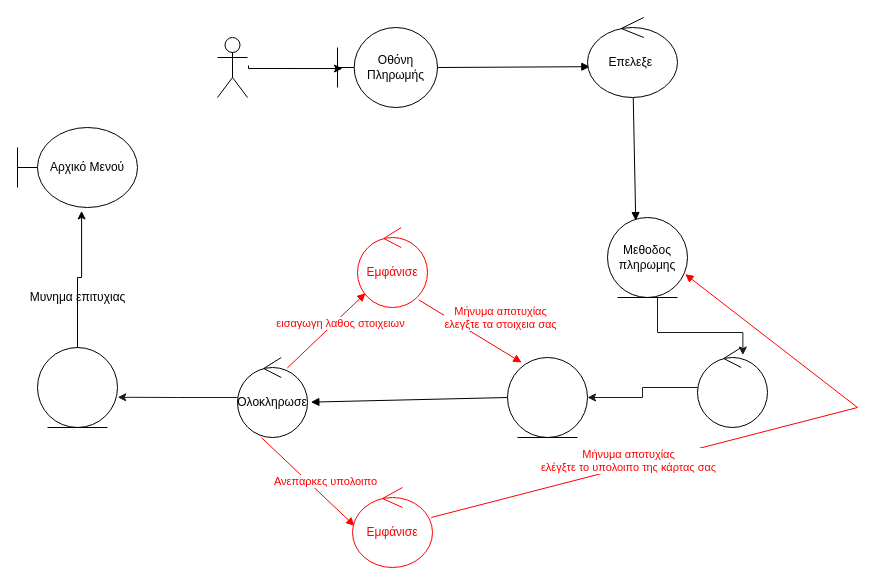
Image size: 883x585. Some labels were removed from this diagram. Each missing label, with the centre of its shape:
Παικτης: the point at 232,67
Πληρωμή: the point at 77,387
Στοιχεια: the point at 547,397
Συμπλήρωσε: the point at 732,387
